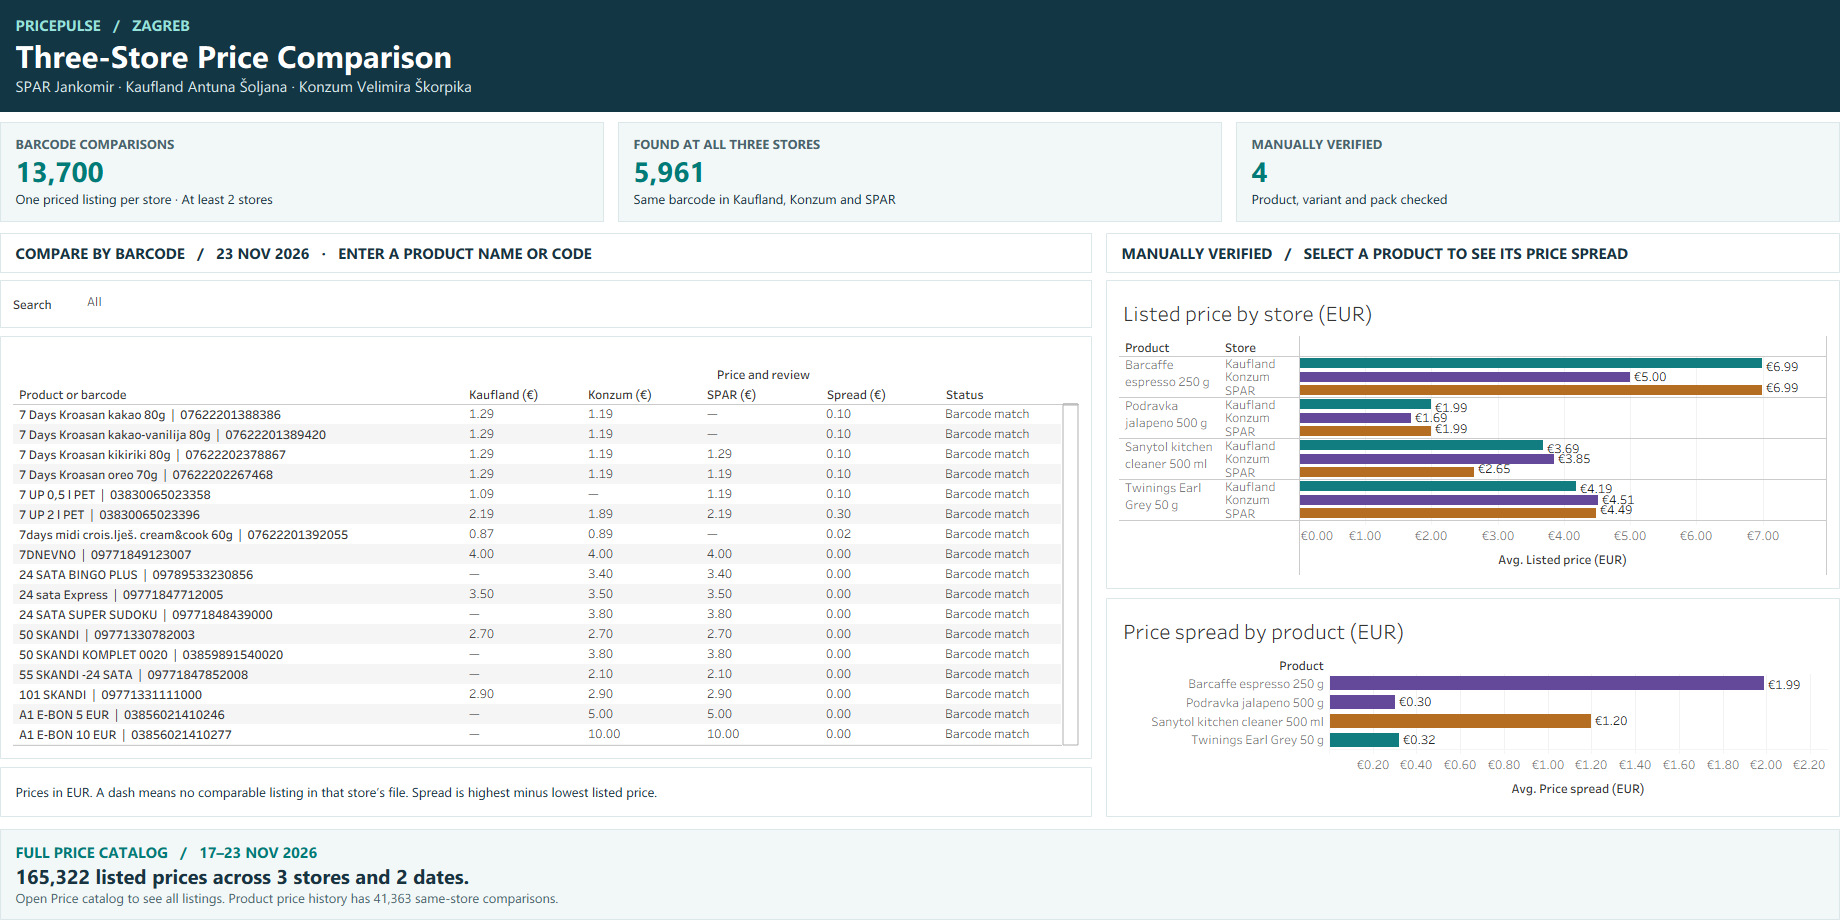

This screenshot's page, from the dashboard's own definition file:
{"tool":"tableau","page":{"name":"Three-Store Price Comparison","canvas":[1840,920],"ordinal":0},"visuals":[{"type":"text","box":[0,0,1840,112]},{"type":"text","box":[0,122,604,100]},{"type":"text","box":[618,122,604,100]},{"type":"text","box":[1236,122,604,100]},{"type":"text","box":[0,233,1092,40]},{"type":"text","box":[1106,233,734,40]},{"type":"filter","title":"Compare by barcode","param":"[federated.phase4_Comparar tiendas].[none:producto:nk]","box":[0,280,1092,48]},{"type":"worksheet","title":"Prices by store","mark":"Bar","rows":["producto","tienda"],"cols":["precio_eur"],"box":[1106,280,734,309]},{"type":"worksheet","title":"Compare by barcode","mark":"Text","rows":["producto"],"cols":["indicador"],"box":[0,336,1092,423]},{"type":"worksheet","title":"Price gap by product","mark":"Bar","rows":["producto"],"cols":["brecha_eur"],"box":[1106,598,734,219]},{"type":"text","box":[0,767,1092,50]},{"type":"text","box":[0,829,1840,91]}]}

Visuals, with their boxes in screenshot pixels (x1, y1, x2, y2), scaled from the page's 1840x920 canvas onto the 1840x920 screenshot:
text: <bbox>0, 0, 1839, 112</bbox>
text: <bbox>0, 122, 604, 222</bbox>
text: <bbox>618, 122, 1222, 222</bbox>
text: <bbox>1236, 122, 1839, 222</bbox>
text: <bbox>0, 233, 1092, 273</bbox>
text: <bbox>1106, 233, 1839, 273</bbox>
"Compare by barcode" filter: <bbox>0, 280, 1092, 328</bbox>
"Prices by store" worksheet (Bar marks): <bbox>1106, 280, 1839, 589</bbox>
"Compare by barcode" worksheet (Text marks): <bbox>0, 336, 1092, 759</bbox>
"Price gap by product" worksheet (Bar marks): <bbox>1106, 598, 1839, 817</bbox>
text: <bbox>0, 767, 1092, 817</bbox>
text: <bbox>0, 829, 1839, 919</bbox>
